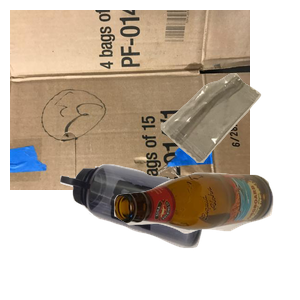cardboard: (10, 10, 250, 190)
glass: (111, 170, 300, 300)
plastic: (58, 162, 261, 300)
trash: (158, 71, 300, 227)
